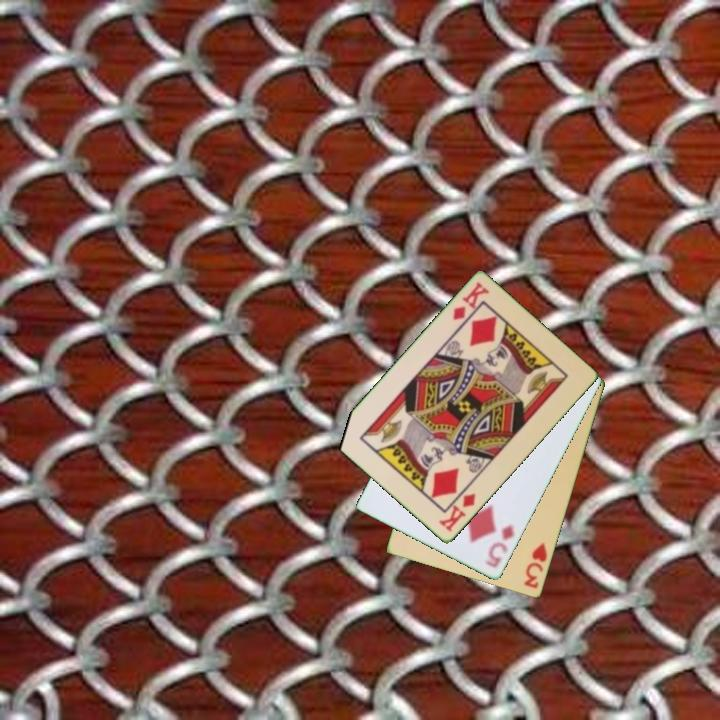3h: (521, 539, 550, 592)
5d: (481, 521, 517, 571)
Kd: (435, 490, 479, 535), (449, 278, 492, 324)
